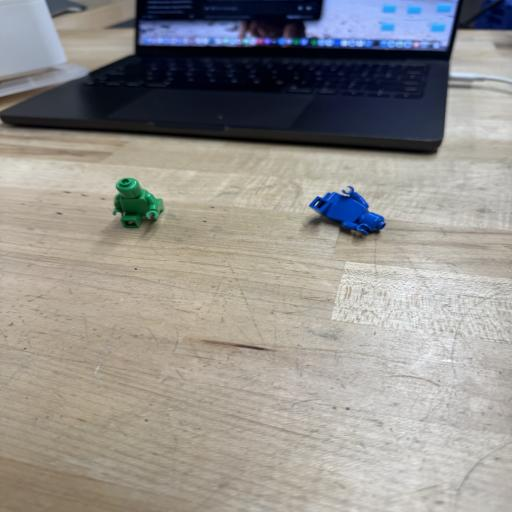blue-minifig: (309, 187, 385, 234)
green-minifig: (113, 179, 164, 228)
